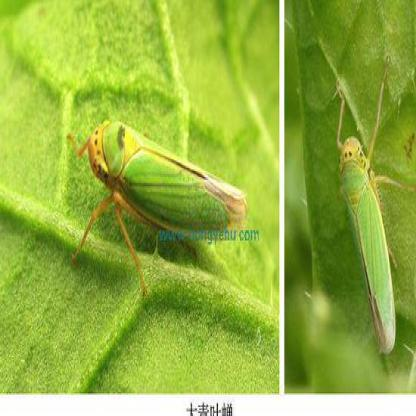Green-Leafhopper: (67, 116, 248, 308), (332, 70, 404, 357)
